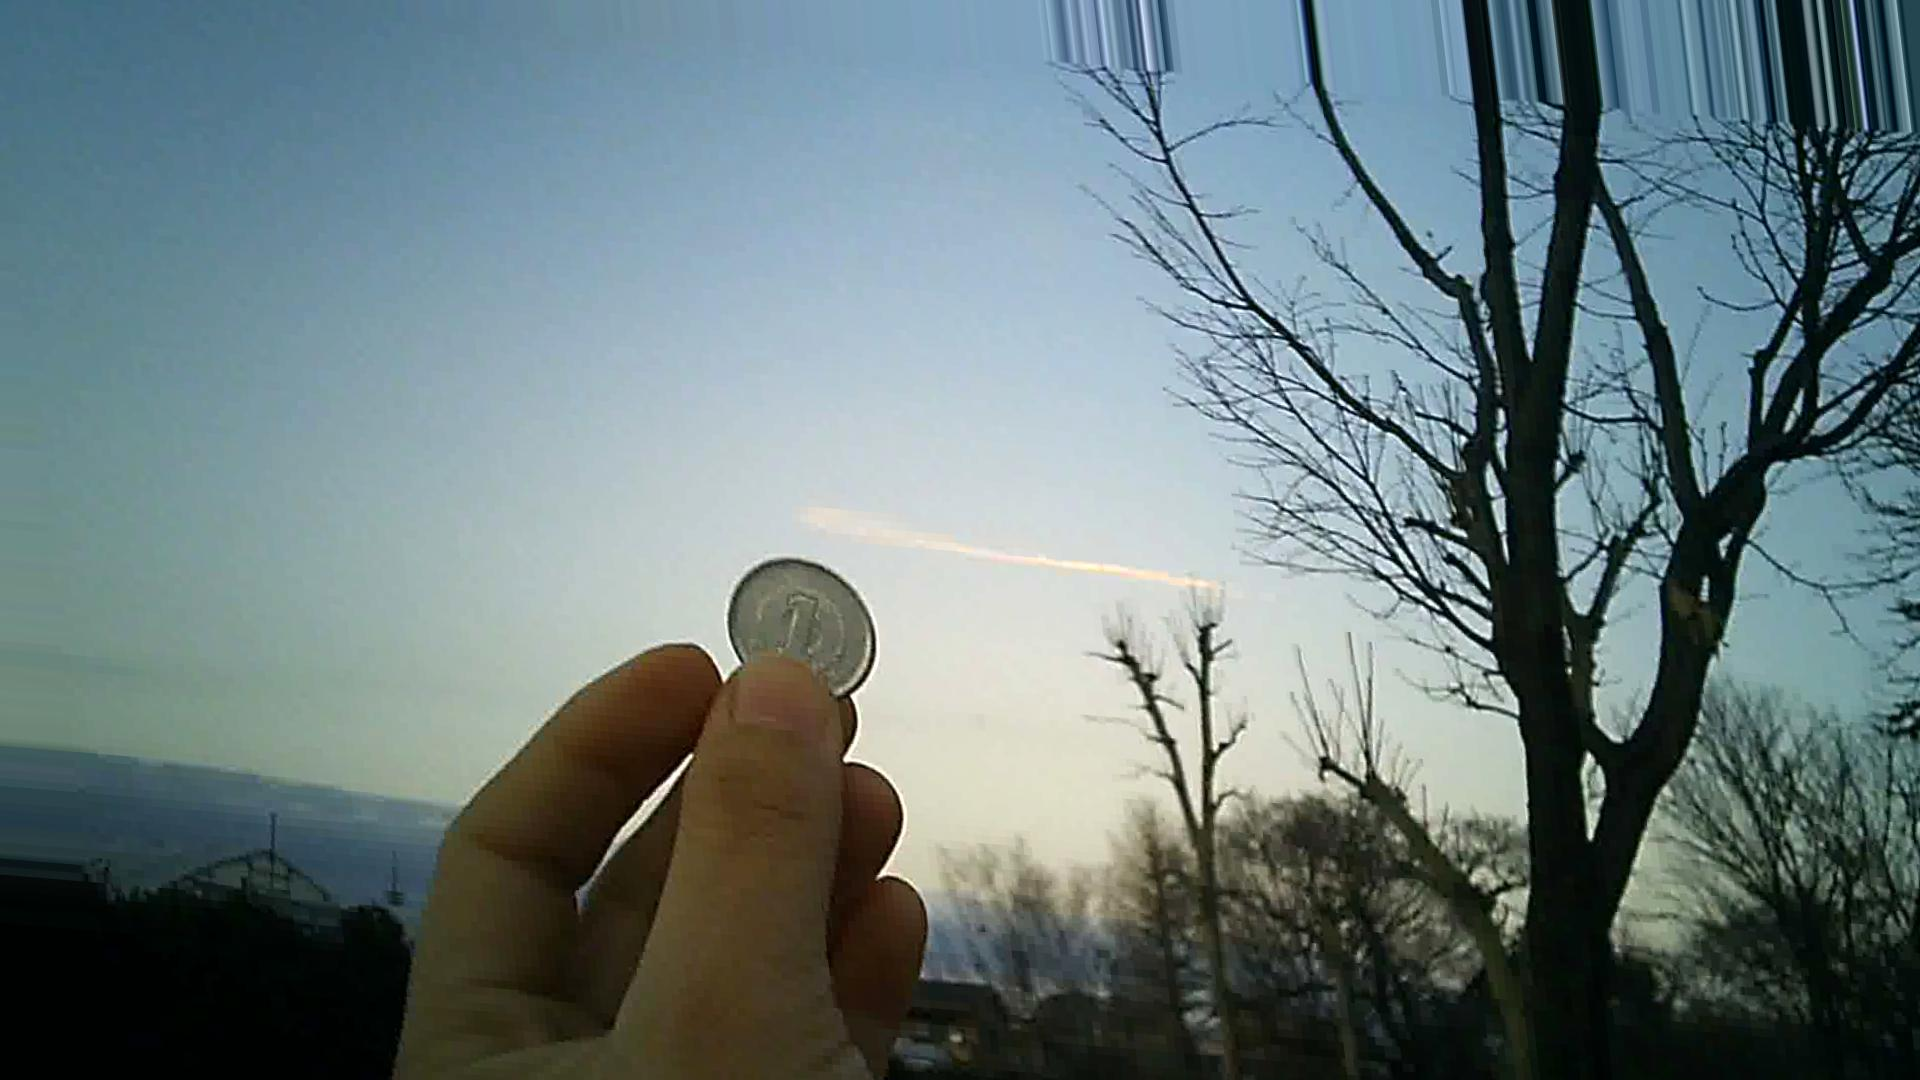1 Yen: (700, 549, 884, 705)
